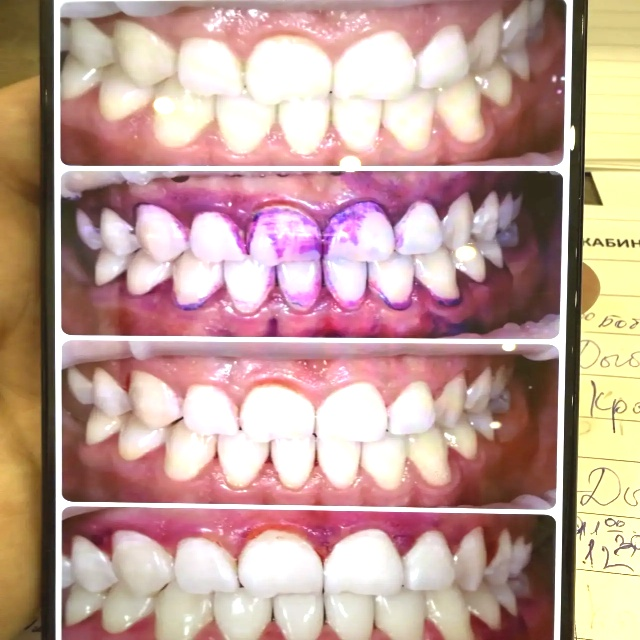clean_tooth: (60, 28, 375, 150), (66, 544, 498, 620), (366, 20, 510, 150), (367, 393, 473, 487), (586, 52, 639, 157), (88, 380, 162, 439), (577, 571, 639, 639), (583, 172, 639, 239), (576, 515, 639, 574), (578, 460, 639, 503), (578, 419, 639, 461), (587, 262, 639, 294), (580, 335, 639, 363), (593, 378, 639, 407), (577, 496, 639, 517), (166, 450, 205, 476), (583, 246, 639, 259)
plaque: (136, 173, 464, 314), (365, 277, 465, 331)
